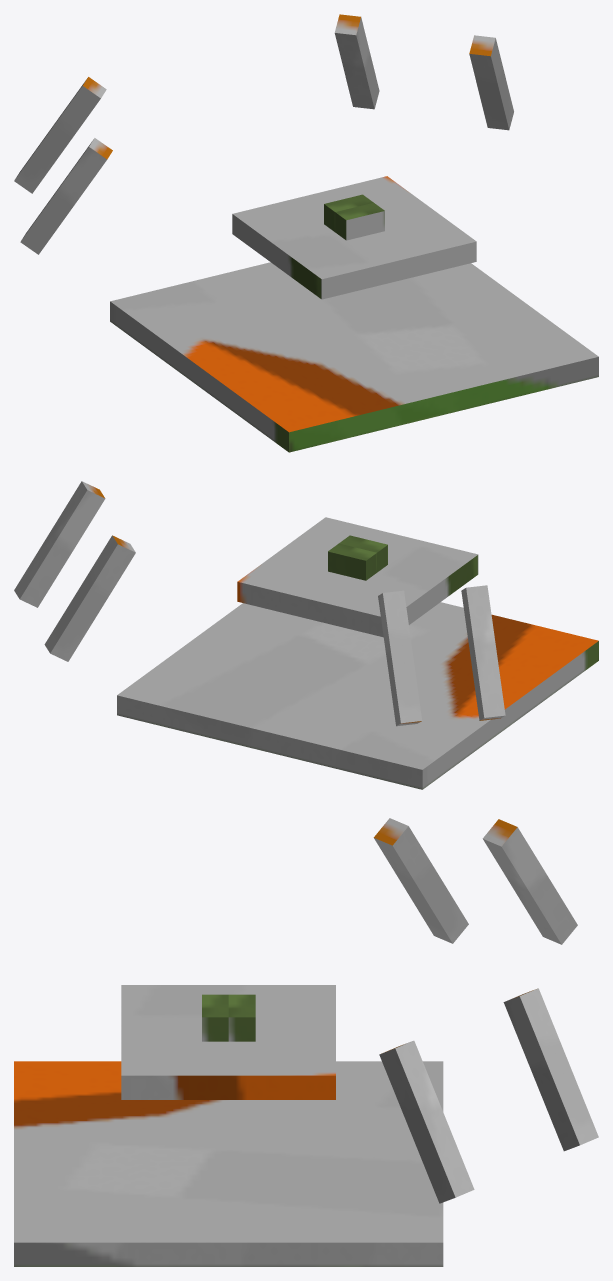
The model's file is assembly_platform.obj.
The picture shows the model from 3 angles, top to bottom: view 1: azimuth 30°, elevation 25°; view 2: azimuth 150°, elevation 25°; view 3: azimuth 270°, elevation 25°; orthographic projection. The views are drawn at different scales.
Parts seen in each view (by area): view 1: Base, Platform, Leg2, Leg4, Leg3, Leg1, Claw1, Claw2; view 2: Base, Platform, Leg3, Leg1, Leg2, Leg4, Claw2, Claw1; view 3: Base, Platform, Leg1, Leg3, Leg2, Leg4, Claw2, Claw1.
Part boxes in pixels (box(x1,y1,x2,y2)): Base: box(110, 262, 598, 452); Platform: box(232, 176, 476, 299); Leg2: box(20, 138, 112, 254); Leg4: box(14, 77, 106, 193); Leg3: box(334, 14, 379, 109); Leg1: box(469, 35, 513, 130); Claw1: box(335, 202, 384, 240); Claw2: box(324, 194, 373, 231); Base: box(117, 602, 598, 789); Platform: box(237, 517, 478, 637); Leg3: box(44, 535, 135, 661); Leg1: box(14, 481, 105, 607); Leg2: box(461, 585, 505, 720); Leg4: box(378, 590, 422, 726); Claw2: box(328, 543, 376, 580); Claw1: box(339, 535, 387, 572); Base: box(14, 1061, 443, 1266); Platform: box(121, 985, 335, 1099); Leg1: box(379, 1040, 474, 1203); Leg3: box(503, 988, 598, 1151); Leg2: box(373, 818, 468, 943); Leg4: box(482, 819, 577, 944); Claw2: box(228, 994, 255, 1041); Claw1: box(202, 994, 228, 1041).
Size of the model in its own units: 1.6 by 0.6785 by 1.36.
